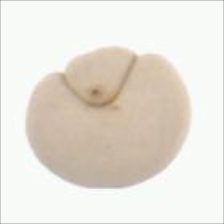L5: (57, 44, 142, 111), (63, 176, 161, 200)
L6: (23, 45, 194, 194)
